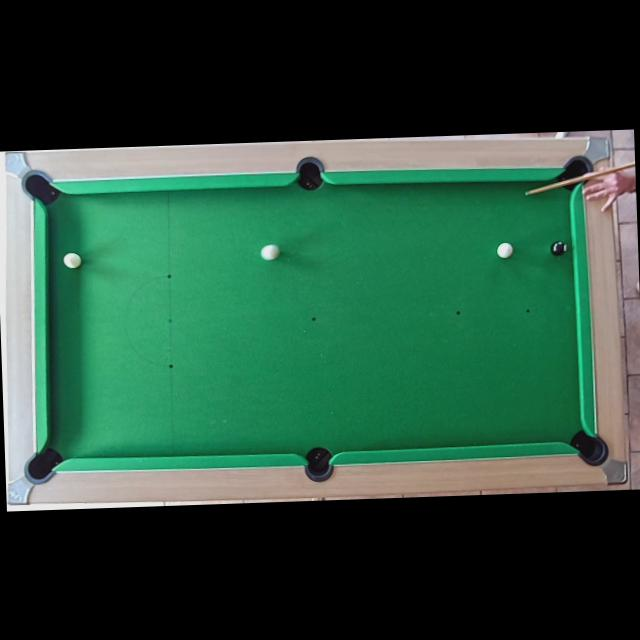Ball: (260, 243, 278, 260), (62, 252, 80, 268), (550, 240, 567, 256), (497, 241, 512, 258)
